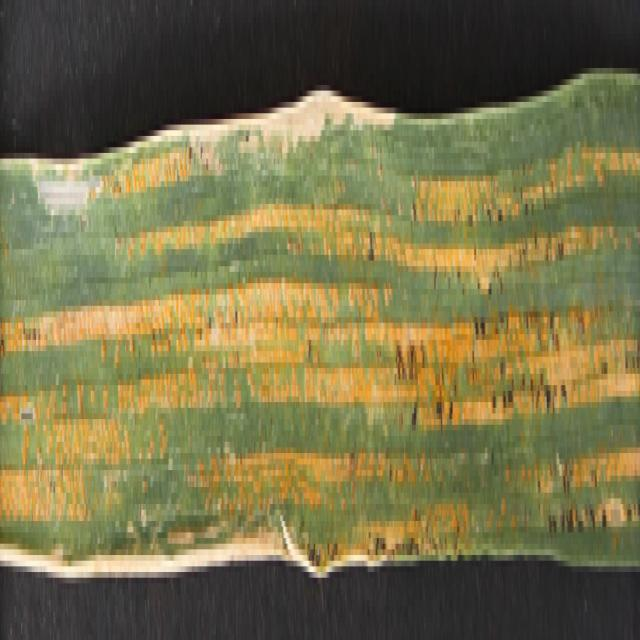leaf rust: (1, 130, 640, 549)
